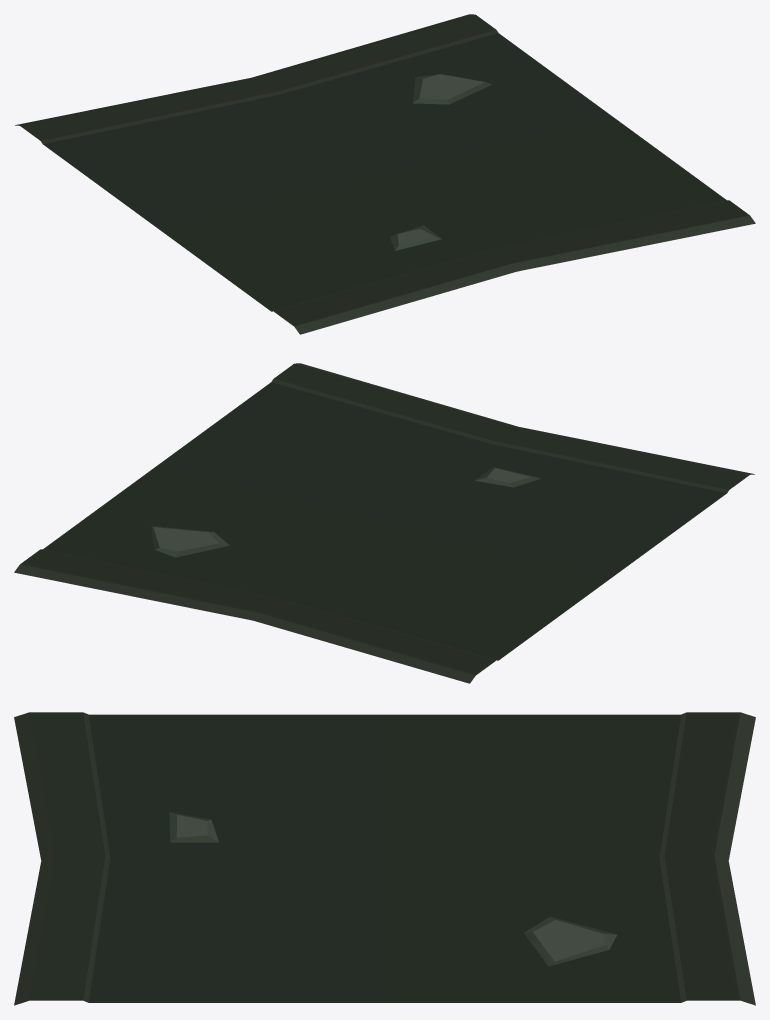
The model's file is SF_Env_Path_End_03.glb.
3 views of the same model, one above another, from view 1: azimuth 30°, elevation 25°; view 2: azimuth 150°, elevation 25°; view 3: azimuth 270°, elevation 25° (orthographic). The views are drawn at different scales.
Parts seen in each view (by area): view 1: SF_Env_Path_End_03; view 2: SF_Env_Path_End_03; view 3: SF_Env_Path_End_03.
Part boxes in pixels (x1=…): SF_Env_Path_End_03: x1=15, y1=14, x2=755, y2=334; SF_Env_Path_End_03: x1=14, y1=363, x2=754, y2=683; SF_Env_Path_End_03: x1=14, y1=712, x2=755, y2=1005.
Bounding box in the file's own units: 0.0498 × 0.000405 × 0.0542.
1 material, 1 textured.
